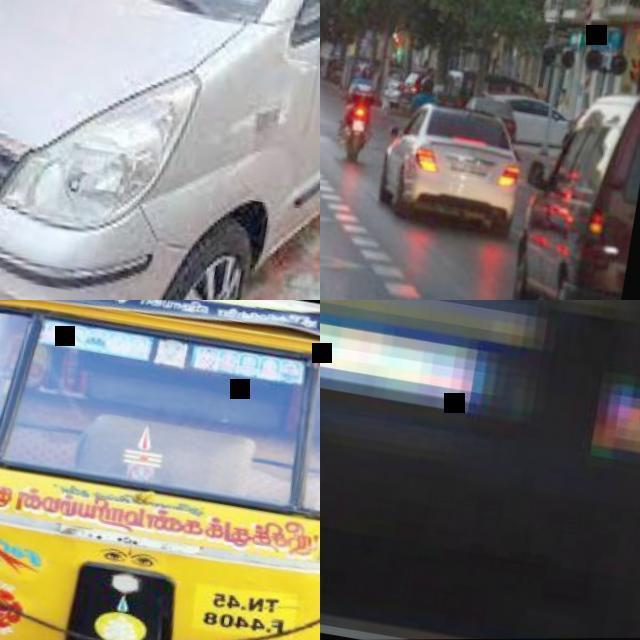car: (0, 5, 327, 633), (517, 92, 639, 305)
